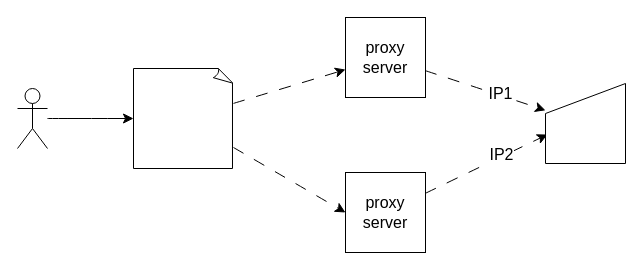
Some shapes in this 643 by 270 pixel diagram are drawn without their labels. The shapes that lost their labels are listed below. From the top down, each one's box as (x1, y1, x2, y2) in pixels, then its label:
(132, 68, 234, 168): our script
(544, 82, 626, 164): website
